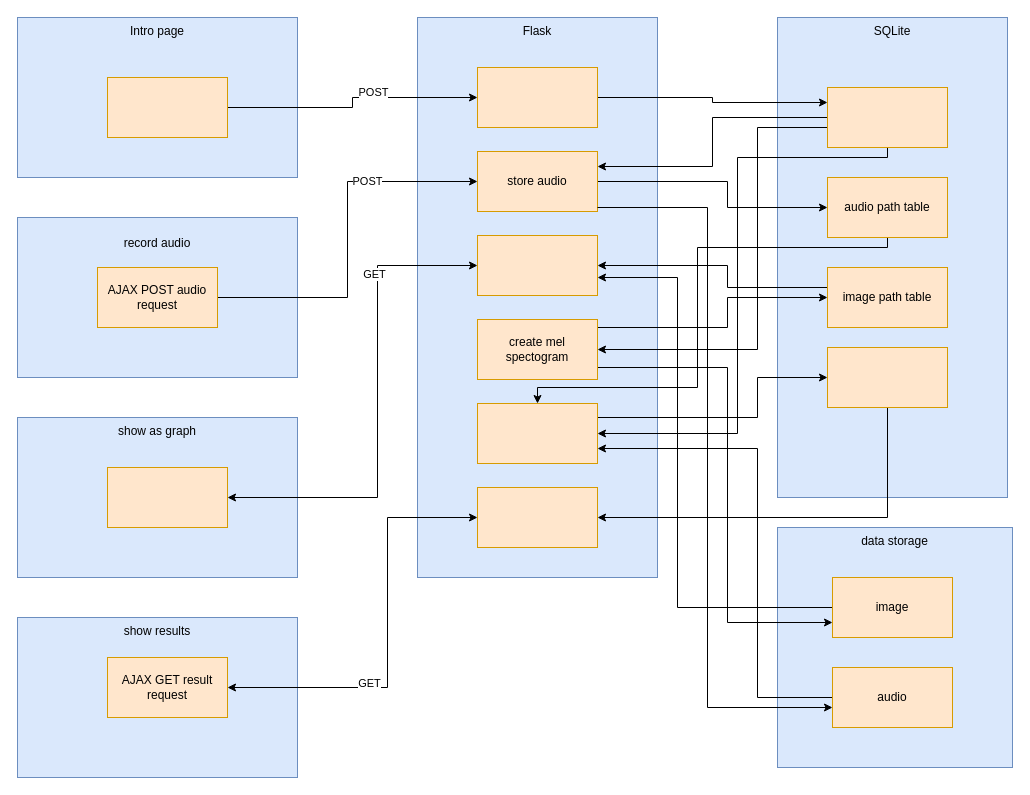
Image size: 1030x795. Some labels were removed from this diagram. Each missing label, with the centre of its shape:
"AJAX GET image request" belongs at pixel 167 497.
"calculate results" belongs at pixel 537 433.
"collect personal info" belongs at pixel 167 107.
"get mel spectogram" belongs at pixel 537 265.
"get results" belongs at pixel 537 517.
"result table" belongs at pixel 887 377.
"store personal information" belongs at pixel 537 97.
"user data table" belongs at pixel 887 117.
